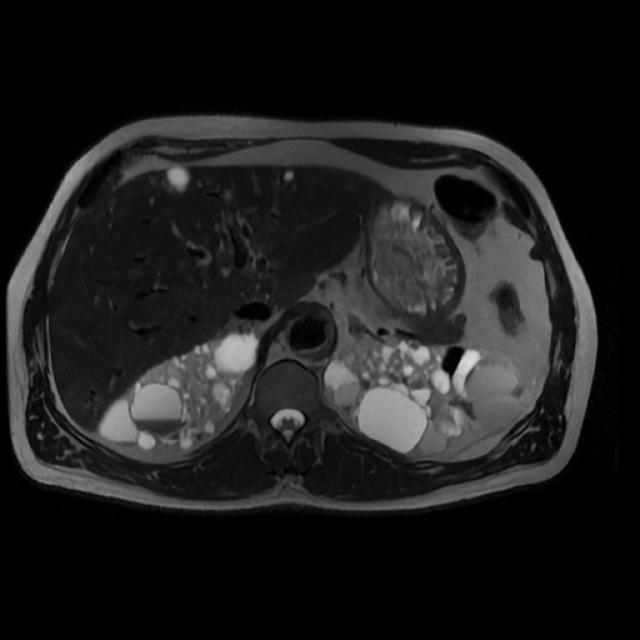sag: (96, 331, 260, 452)
sol: (322, 339, 485, 456)
